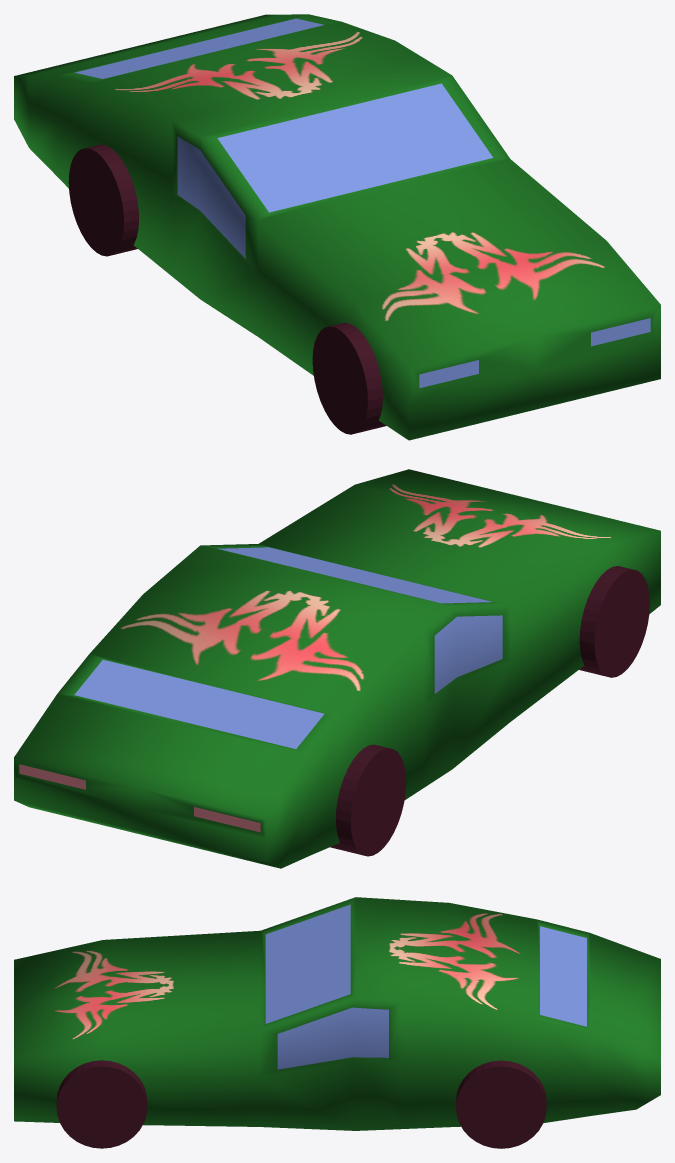
Rendered from CAR_2.fbx.
The picture shows the model from 3 angles, top to bottom: view 1: azimuth 30°, elevation 25°; view 2: azimuth 150°, elevation 25°; view 3: azimuth 270°, elevation 25°; orthographic projection. The views are drawn at different scales.
Visible parts, largest first — view 1: bodY_CAR2, wheelFR.002, wheelRR.002; view 2: bodY_CAR2, wheelRR.002, wheelFR.002; view 3: bodY_CAR2, wheelFL.002, wheelRL.002.
Boxes of the visible parts, bbox=[...] form: bodY_CAR2: bbox=[14, 14, 660, 440]; wheelFR.002: bbox=[312, 322, 386, 434]; wheelRR.002: bbox=[68, 144, 139, 256]; bodY_CAR2: bbox=[14, 469, 660, 868]; wheelRR.002: bbox=[330, 744, 406, 856]; wheelFR.002: bbox=[579, 566, 649, 677]; bodY_CAR2: bbox=[14, 897, 660, 1130]; wheelFL.002: bbox=[56, 1060, 147, 1148]; wheelRL.002: bbox=[456, 1060, 546, 1148].
Size of the model in its own units: 235 by 141 by 570.
